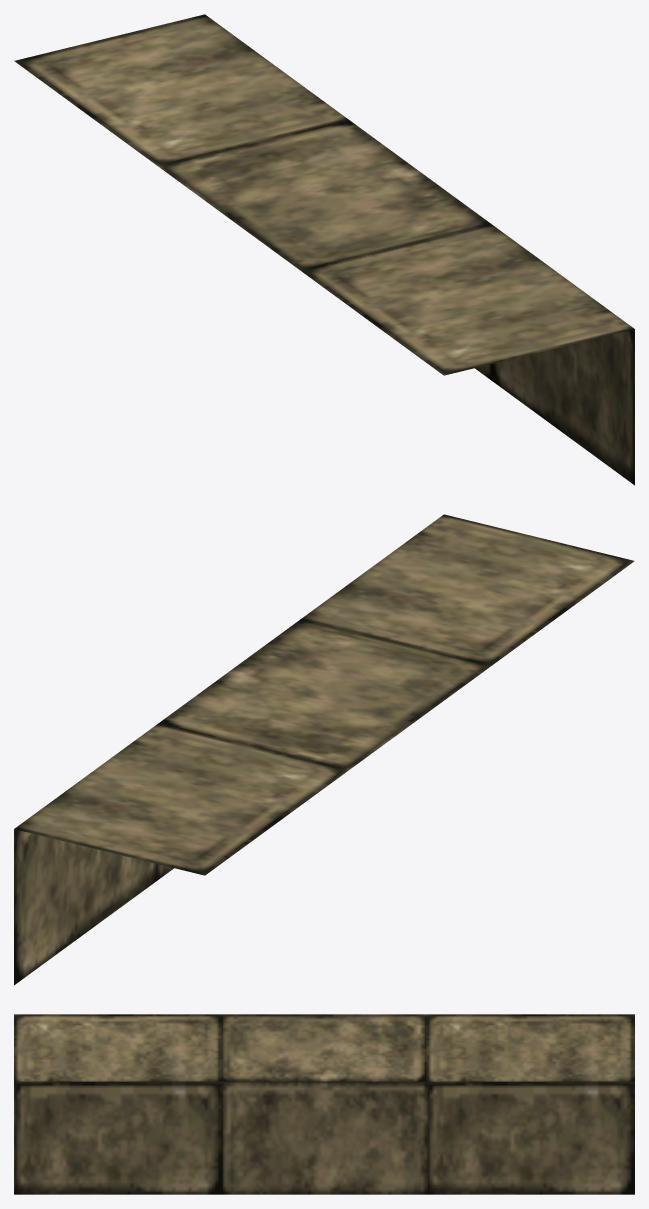
Rendered from OVERHILL_A_01_OBJECT320.fbx.
3 views of the same model, one above another, from view 1: azimuth 30°, elevation 25°; view 2: azimuth 150°, elevation 25°; view 3: azimuth 270°, elevation 25° (orthographic). The views are drawn at different scales.
Parts seen in each view (by area): view 1: OVERHILL_A_01_OBJECT320; view 2: OVERHILL_A_01_OBJECT320; view 3: OVERHILL_A_01_OBJECT320.
Part boxes in pixels (x1,y1,x2,y2): OVERHILL_A_01_OBJECT320: (14, 14, 634, 485); OVERHILL_A_01_OBJECT320: (14, 514, 634, 985); OVERHILL_A_01_OBJECT320: (14, 1014, 634, 1194).
Bounding box in the file's own units: 8372 × 6555 × 32635.
Materials: 1 (1 with a texture image).
